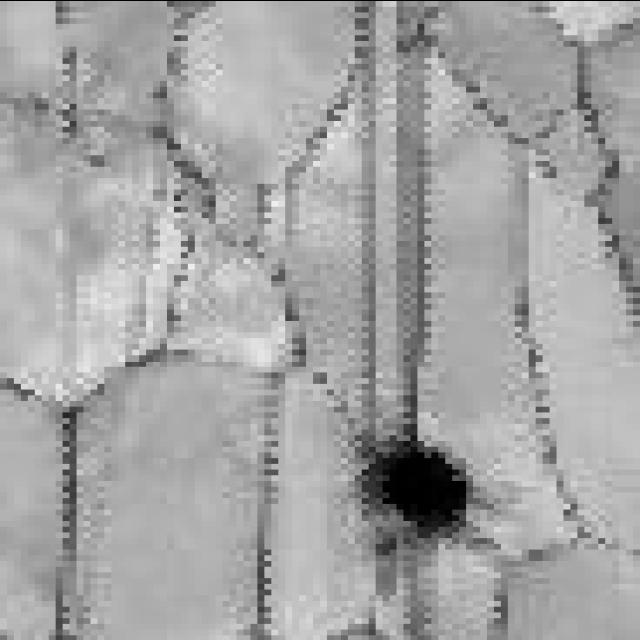good_void: (339, 420, 484, 563)
